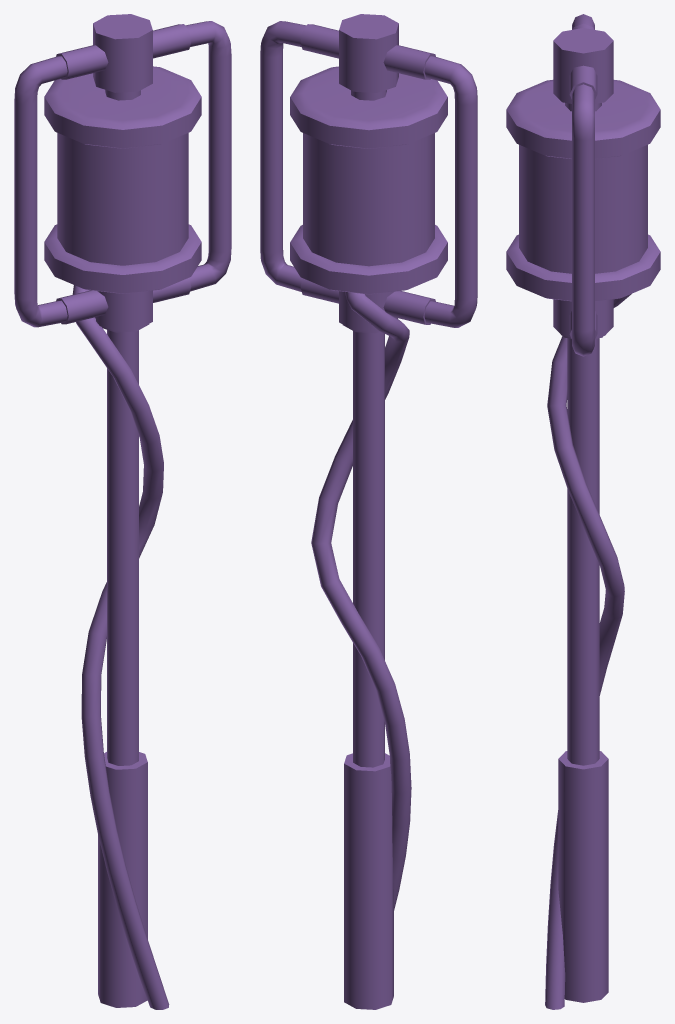
File: STAND.fbx
3 views of the same model, side by side, from view 1: azimuth 30°, elevation 25°; view 2: azimuth 150°, elevation 25°; view 3: azimuth 270°, elevation 25° (orthographic). The views are drawn at different scales.
Parts seen in each view (by area): view 1: MECH, GLASS; view 2: MECH, GLASS; view 3: MECH, GLASS.
Boxes of the visible parts, x1,y1,x2,y2 form: MECH: (14, 14, 231, 1009); GLASS: (57, 133, 188, 265); MECH: (260, 14, 477, 1009); GLASS: (303, 133, 434, 266); MECH: (506, 14, 660, 1009); GLASS: (519, 145, 647, 273).
Size of the model in its own units: 50.82 by 220 by 32.27.
